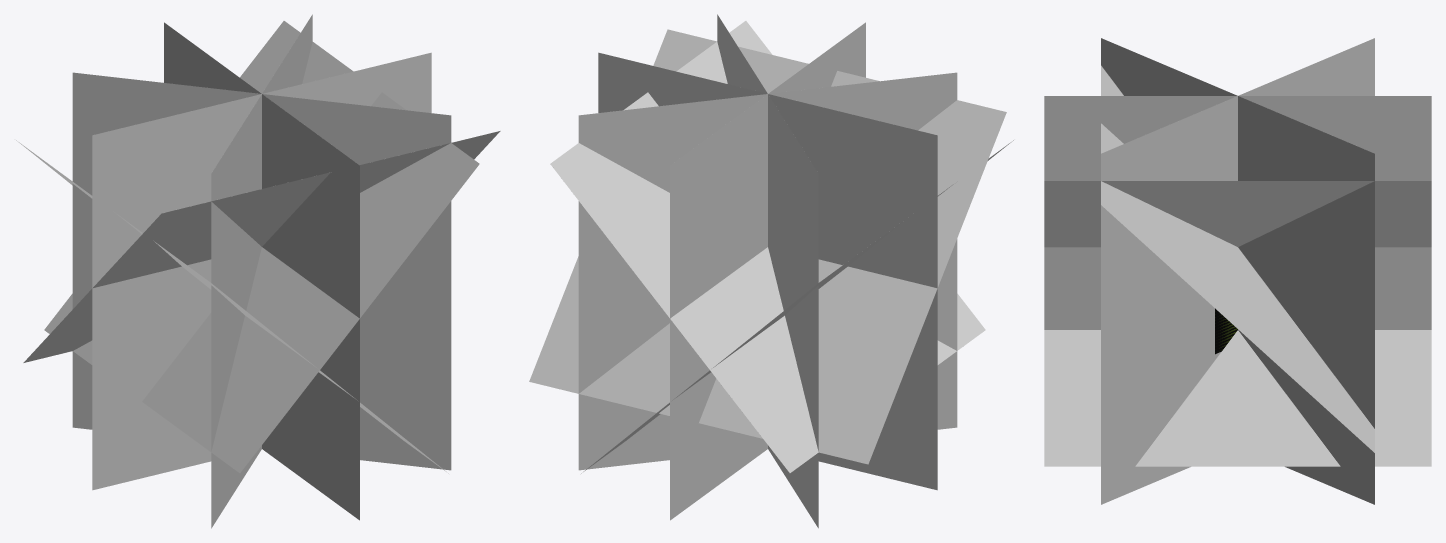
Rendered from palm.obj.
3 views of the same model, side by side, from view 1: azimuth 30°, elevation 25°; view 2: azimuth 150°, elevation 25°; view 3: azimuth 270°, elevation 25° (orthographic).
Parts seen in each view (by area): view 1: cube; view 2: cube; view 3: cube.
Part boxes in pixels (<box>): cube: <box>16,14,500,528</box>; cube: <box>529,14,1013,528</box>; cube: <box>1044,38,1431,504</box>.
Size of the model in its own units: 2.25 by 2.25 by 2.25.
2 materials, 1 textured.
